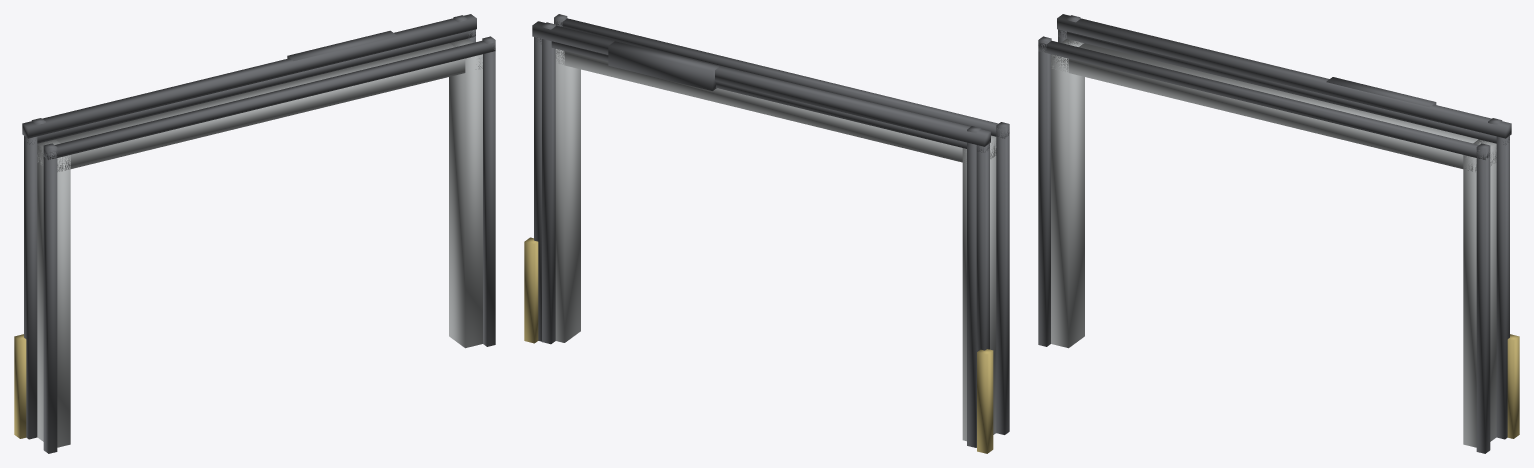
File: bay_opening_loading_bay_w420_h280_d30.glb
3 views of the same model, side by side, from view 1: azimuth 30°, elevation 25°; view 2: azimuth 150°, elevation 25°; view 3: azimuth 330°, elevation 25° (orthographic).
Visible parts, largest first — view 1: world; view 2: world; view 3: world.
Part boxes in pixels (x1,y1,x2,y2): world: (14,14,495,453); world: (524,14,1009,453); world: (1038,14,1519,453).
Size of the model in its own units: 4.89 by 3.19 by 0.522.
